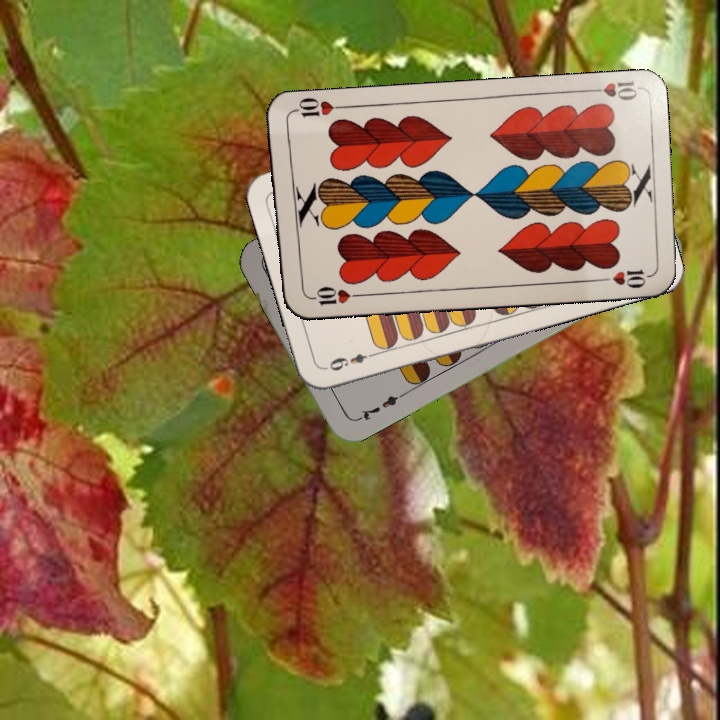E7: (350, 390, 405, 425)
E9: (325, 348, 380, 374)
H10: (303, 282, 363, 308), (581, 77, 640, 103)
